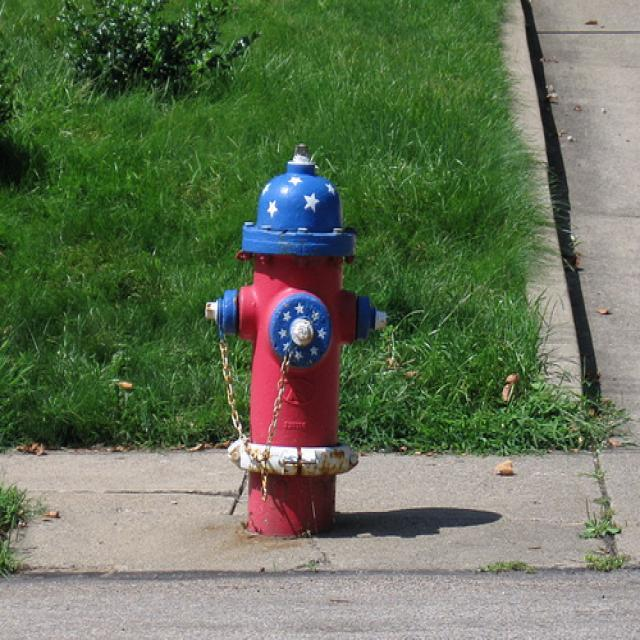fire_hydrant: (206, 142, 389, 536)
